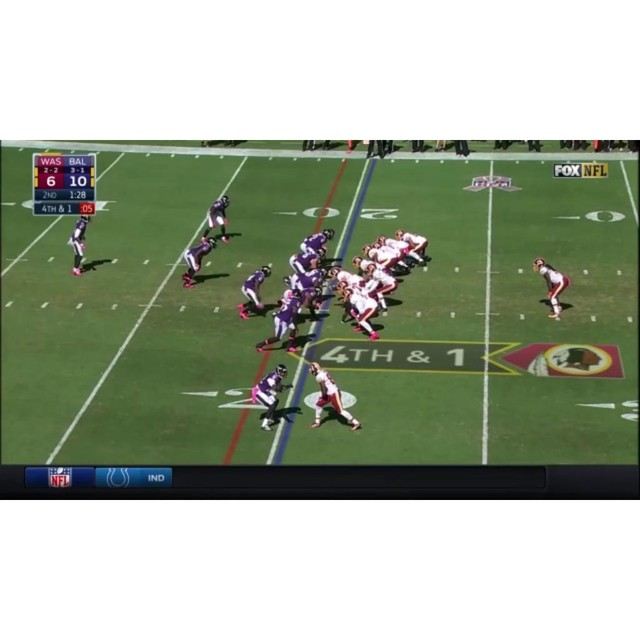american-football-player: (308, 362, 361, 430), (256, 290, 303, 352), (251, 363, 294, 430), (532, 257, 572, 319), (341, 287, 384, 341), (181, 235, 219, 289), (238, 264, 273, 320), (363, 262, 401, 312), (395, 228, 432, 271), (66, 216, 91, 276), (292, 284, 328, 321), (204, 195, 231, 242), (364, 245, 404, 272), (330, 265, 366, 295), (288, 249, 325, 278), (301, 228, 335, 257), (291, 268, 330, 293)
